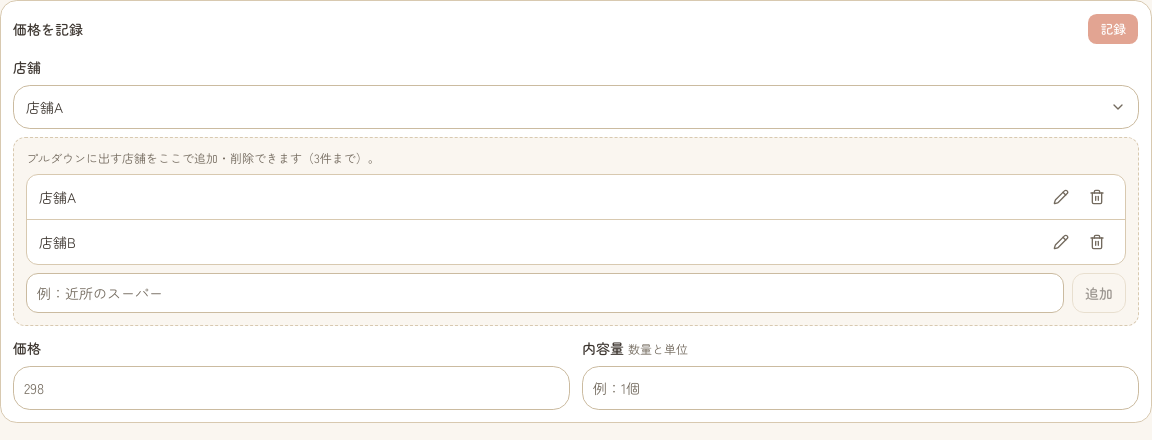
Test: PriceRecordForm › PRF-02(上限): 店舗が 2 件なら追加ボタンは有効
Expected: the text "プルダウンに出す店舗をここで追加・削除できます（3件まで）。" is shown, [26,149,380,166]
In the field named "追加する店舗名": (545, 293) [26,273,1064,313], type "店舗C"
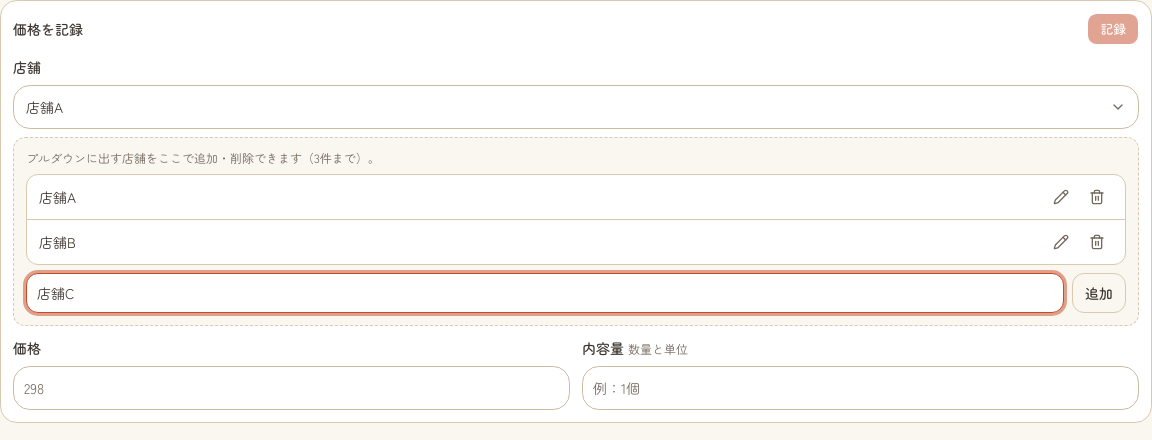
Result: the button "追加" is enabled at [1072,273,1126,313]
